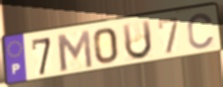0: (91, 27, 121, 65)
7: (156, 15, 181, 56), (31, 36, 53, 76)
C: (186, 12, 216, 51)
M: (54, 28, 95, 73)
U: (121, 18, 154, 62)
